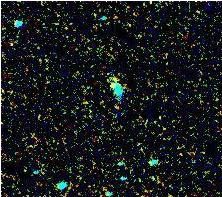star: (98, 71, 128, 101)
